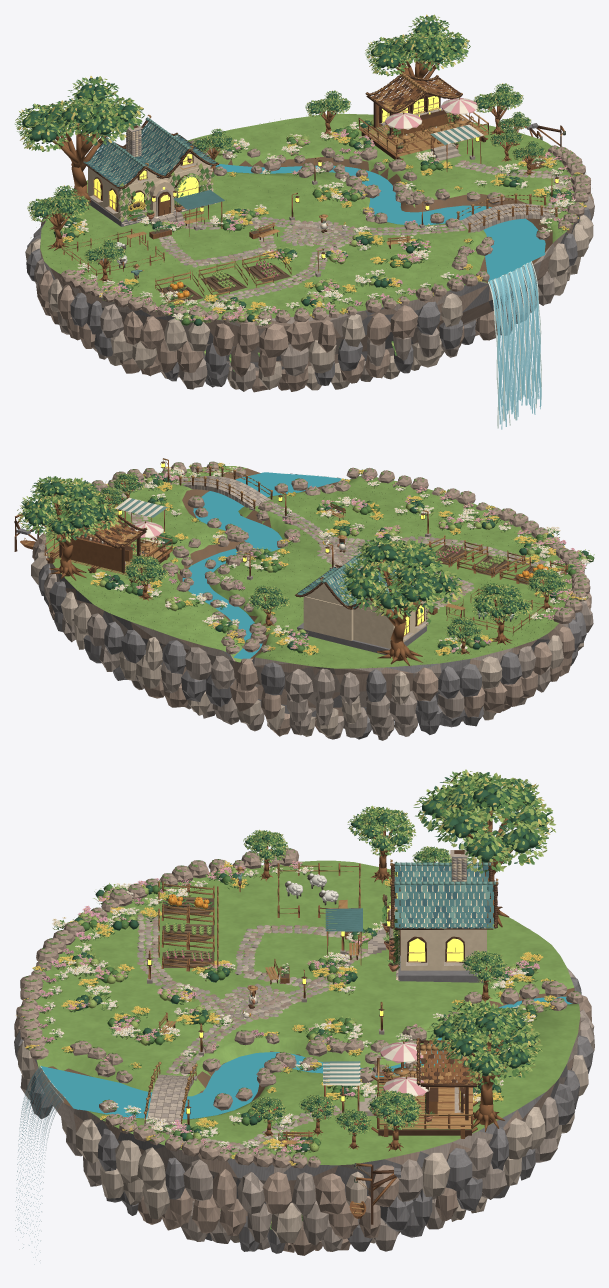
The model's file is island_layout.glb.
3 renders of one model, top to bottom at view 1: azimuth 30°, elevation 25°; view 2: azimuth 150°, elevation 25°; view 3: azimuth 270°, elevation 25°, orthographic. The views are drawn at different scales.
Parts seen in each view (by area): view 1: island_scenery, waterfall_ribbons, stream_surface; view 2: island_scenery, stream_surface; view 3: island_scenery, stream_surface, waterfall_ribbons.
Boxes of the visible parts, left/top/right/bottom form: island_scenery: left=15, top=14, right=594, bottom=392; waterfall_ribbons: left=488, top=261, right=541, bottom=429; stream_surface: left=210, top=163, right=545, bottom=281; island_scenery: left=14, top=458, right=594, bottom=740; stream_surface: left=182, top=472, right=345, bottom=659; island_scenery: left=14, top=769, right=594, bottom=1255; stream_surface: left=41, top=996, right=572, bottom=1119; waterfall_ribbons: left=15, top=1066, right=65, bottom=1264.
Size of the model in its own units: 60.27 by 28.58 by 45.1.
Materials: 44 (18 with a texture image).
